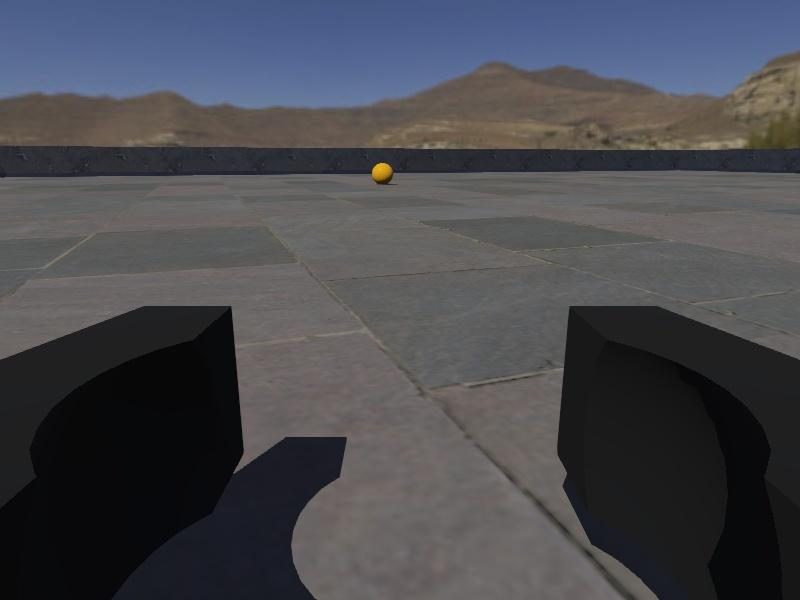orange ball: (371, 161, 395, 186)
